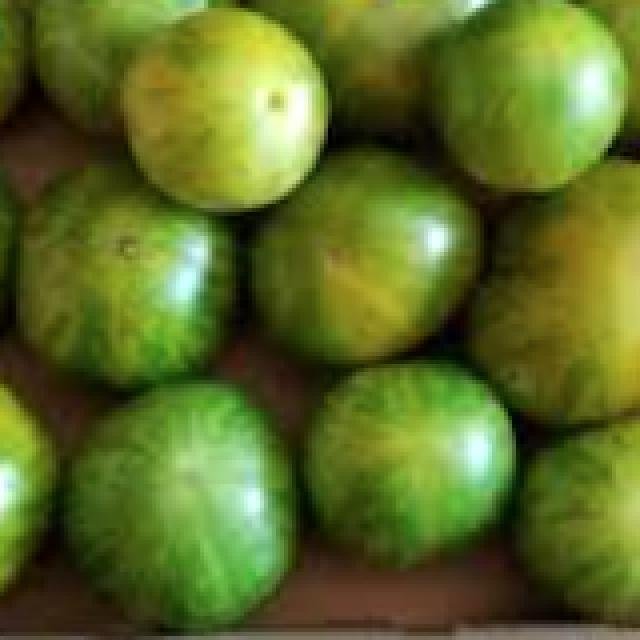yesil: (38, 22, 629, 591)
